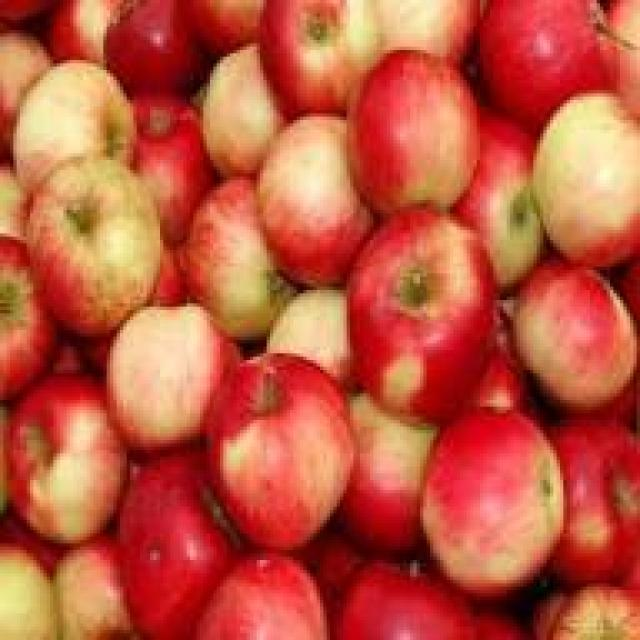apple: (353, 213, 520, 417), (417, 417, 570, 590), (213, 353, 360, 527), (97, 447, 243, 613), (23, 150, 154, 333), (337, 380, 473, 547), (96, 304, 226, 454), (250, 113, 373, 270), (17, 57, 143, 193), (7, 377, 116, 533), (184, 166, 284, 336), (197, 37, 310, 180), (350, 63, 477, 187), (533, 103, 637, 250), (523, 257, 637, 380), (197, 557, 340, 630)
